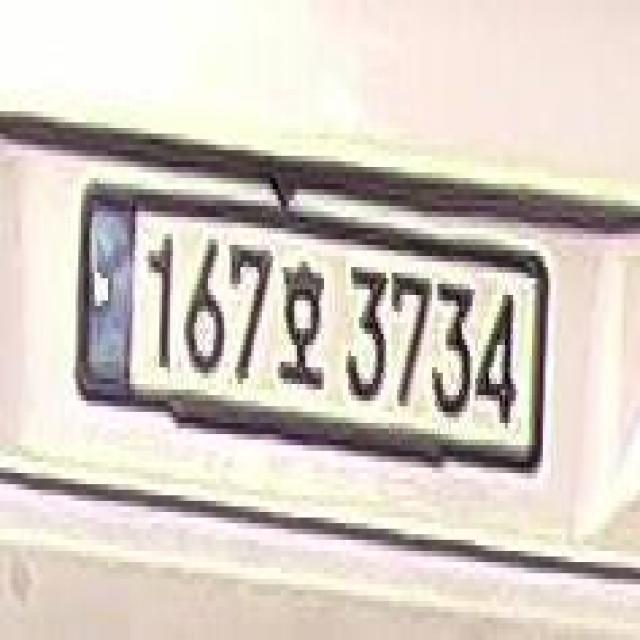illegal_plate: (77, 168, 544, 500)
